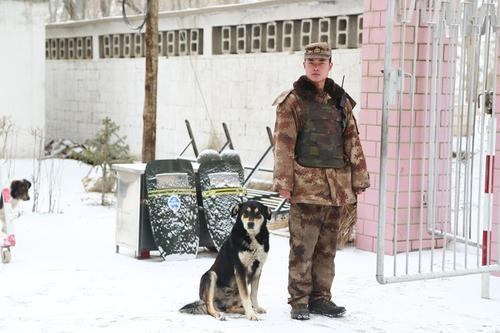Fall-Detected: (177, 197, 276, 318)
